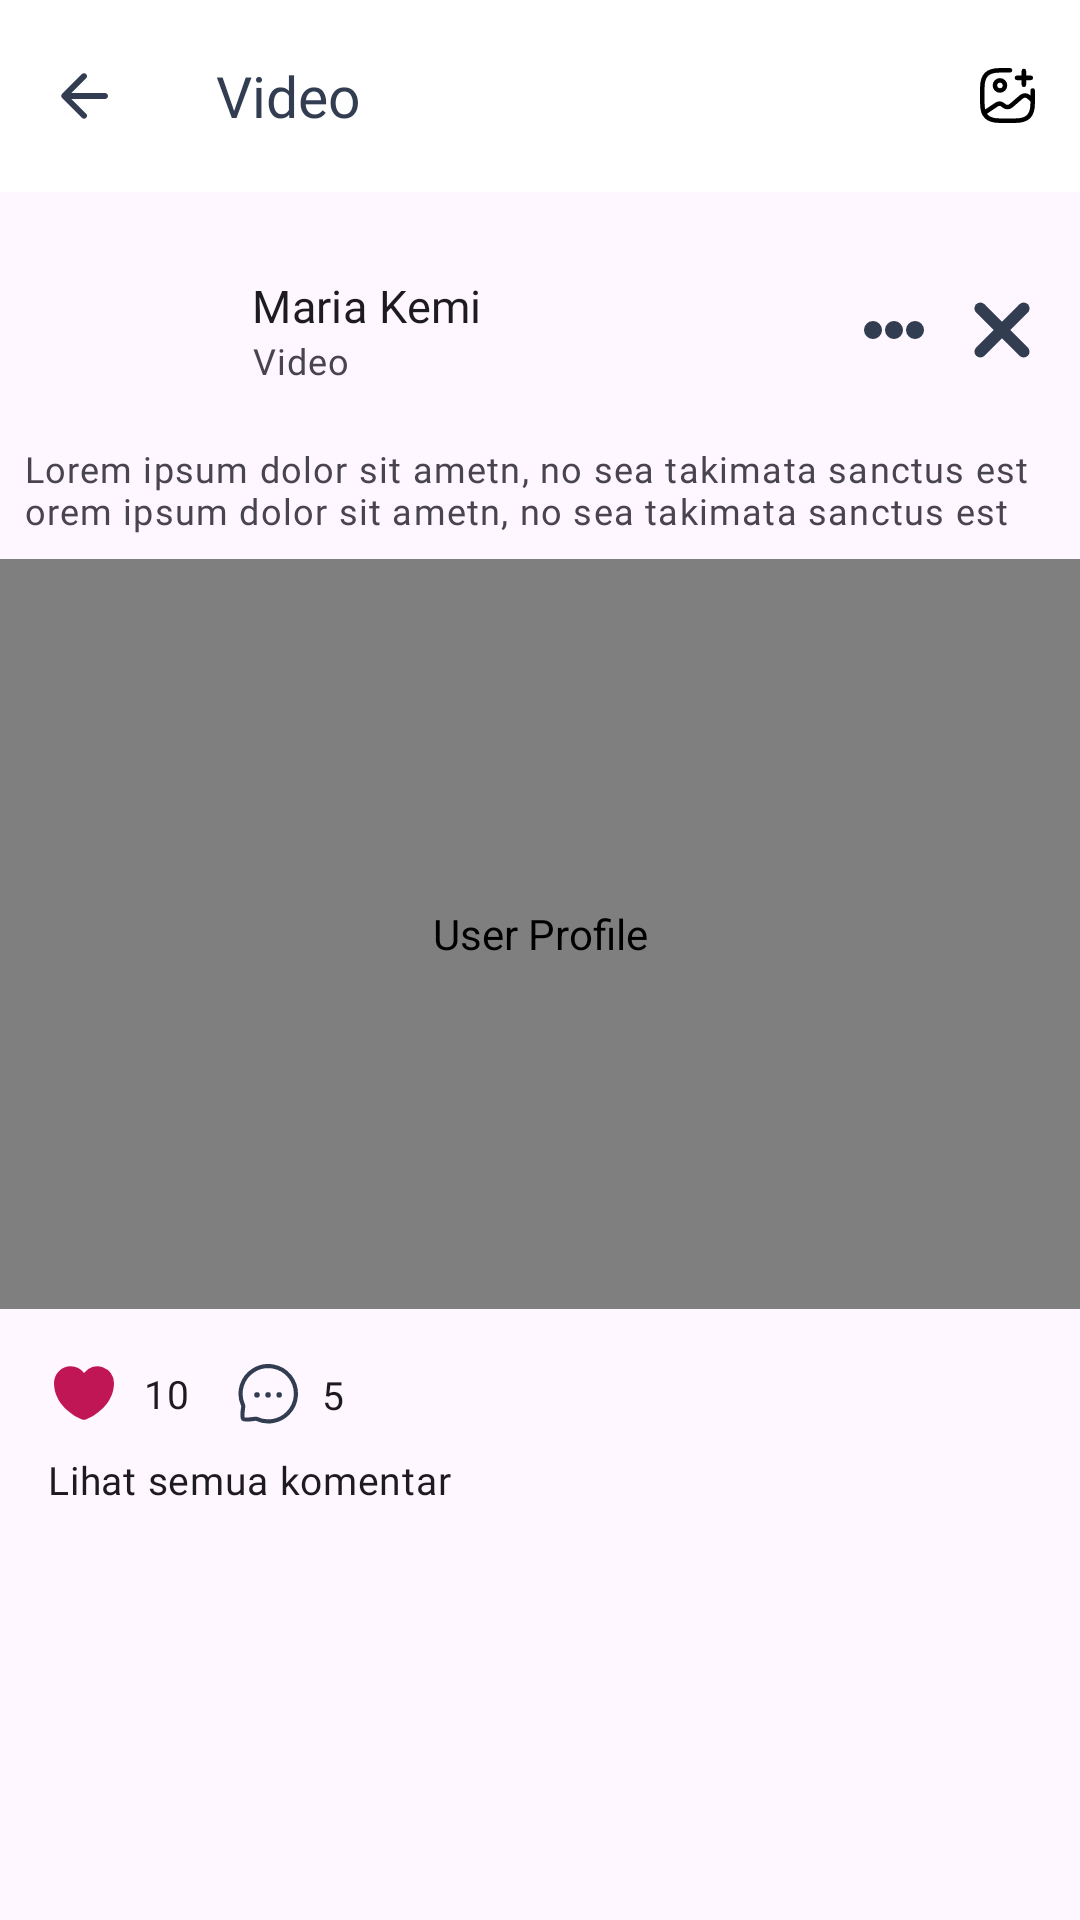

Named icons in this screenshot (1080w x 1920h) and their bounding boxes, {"x1": x1, "y1": y1, "x2": x2, "y2": y2}:
cancel: {"x1": 974, "y1": 302, "x2": 1030, "y2": 358}
comment: {"x1": 238, "y1": 1364, "x2": 298, "y2": 1424}
love: {"x1": 54, "y1": 1366, "x2": 114, "y2": 1420}
more: {"x1": 864, "y1": 321, "x2": 924, "y2": 339}
